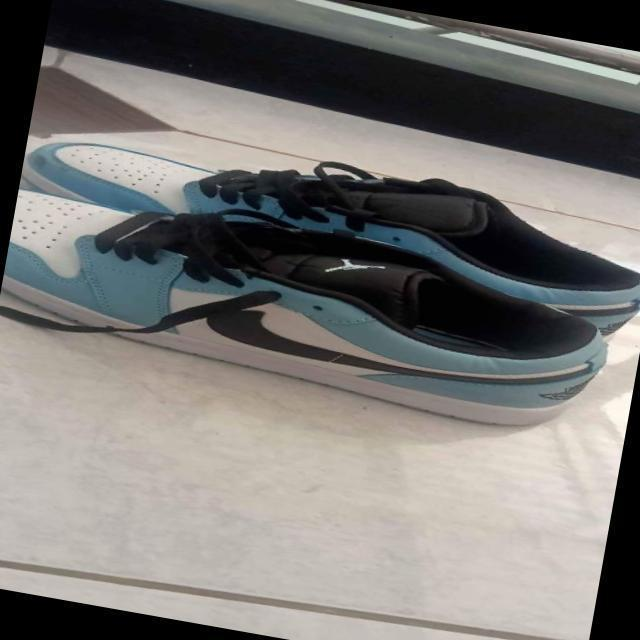nike fake jordan 1: (0, 184, 640, 435), (18, 108, 640, 297)
